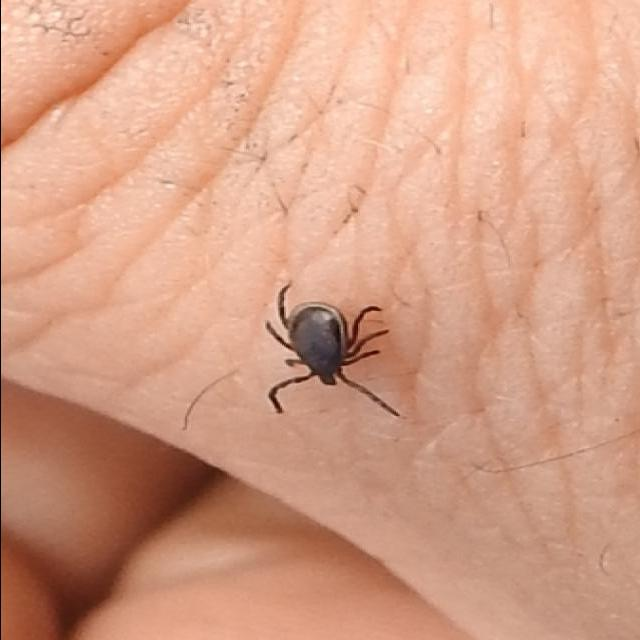Ixodes Ricinus-M: (264, 284, 403, 417)
